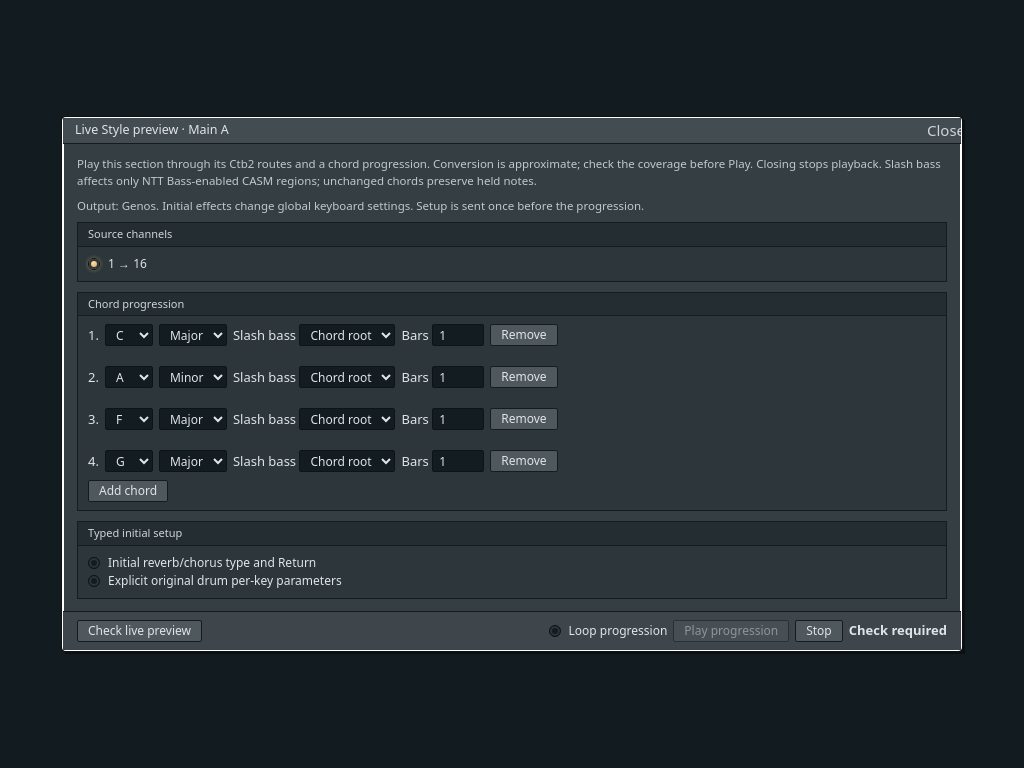
keeps Escape inside the preview while a native check is pending
Click the button "Check live preview" at (140, 631), box [77,620,202,642]
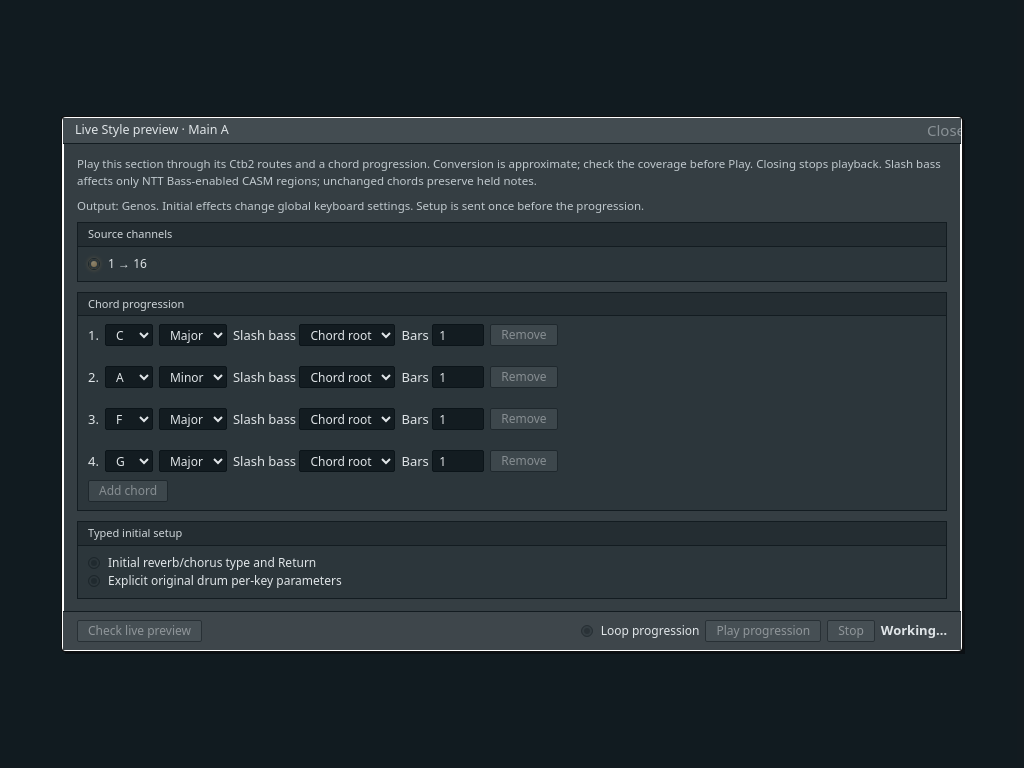
Press Escape in the dialog
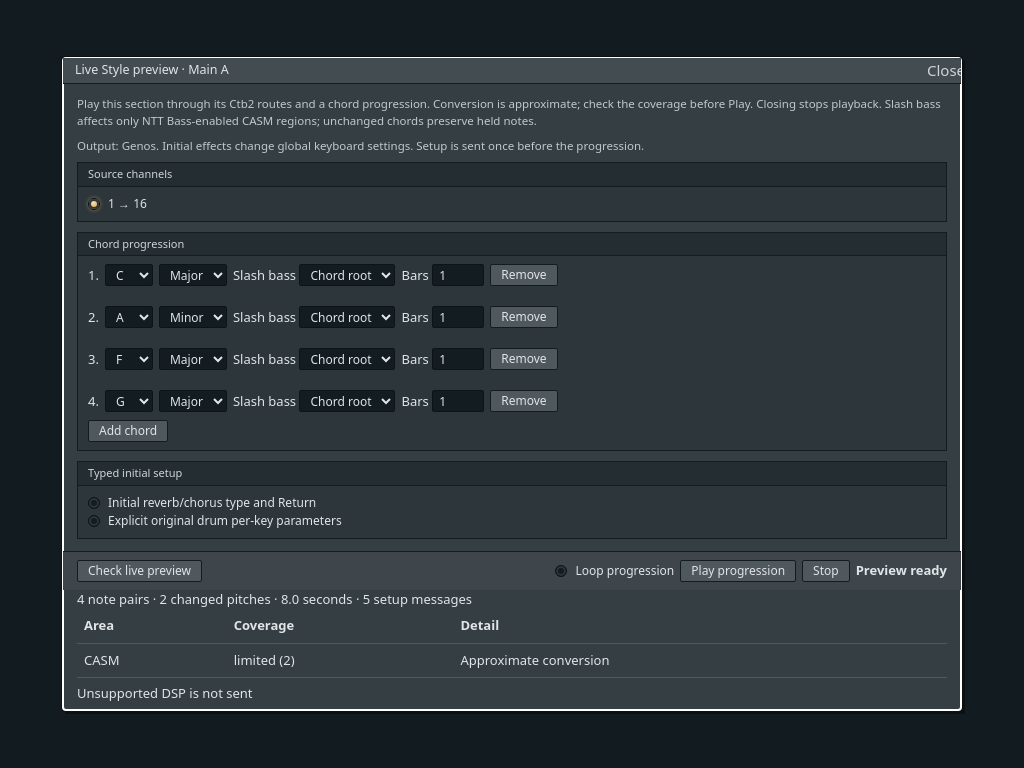
Check: the text "Preview ready" is shown, box [856,561,947,580]
